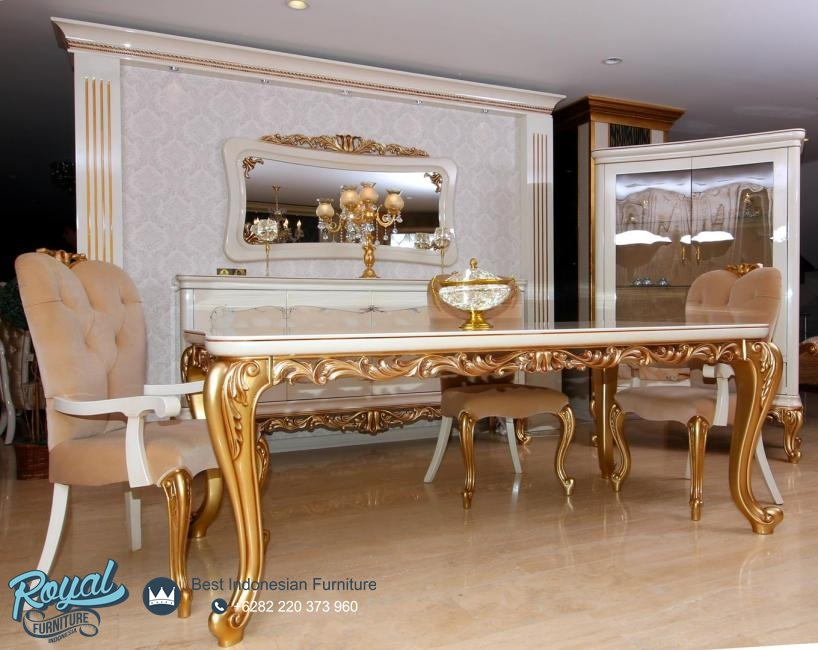Carving Table: (181, 313, 793, 619)
